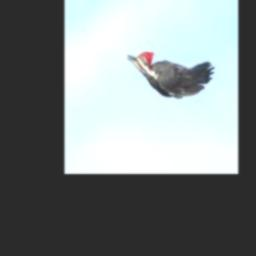Woodpecker: (128, 51, 216, 97)
